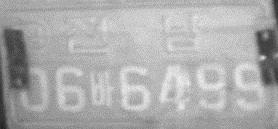0: (16, 66, 50, 113)
4: (157, 64, 191, 111)
6: (118, 64, 151, 112), (54, 64, 86, 112)
9: (232, 62, 266, 110), (195, 63, 228, 111)
바: (89, 70, 113, 107)
영: (16, 18, 52, 55)
전남_D: (62, 12, 204, 55)
